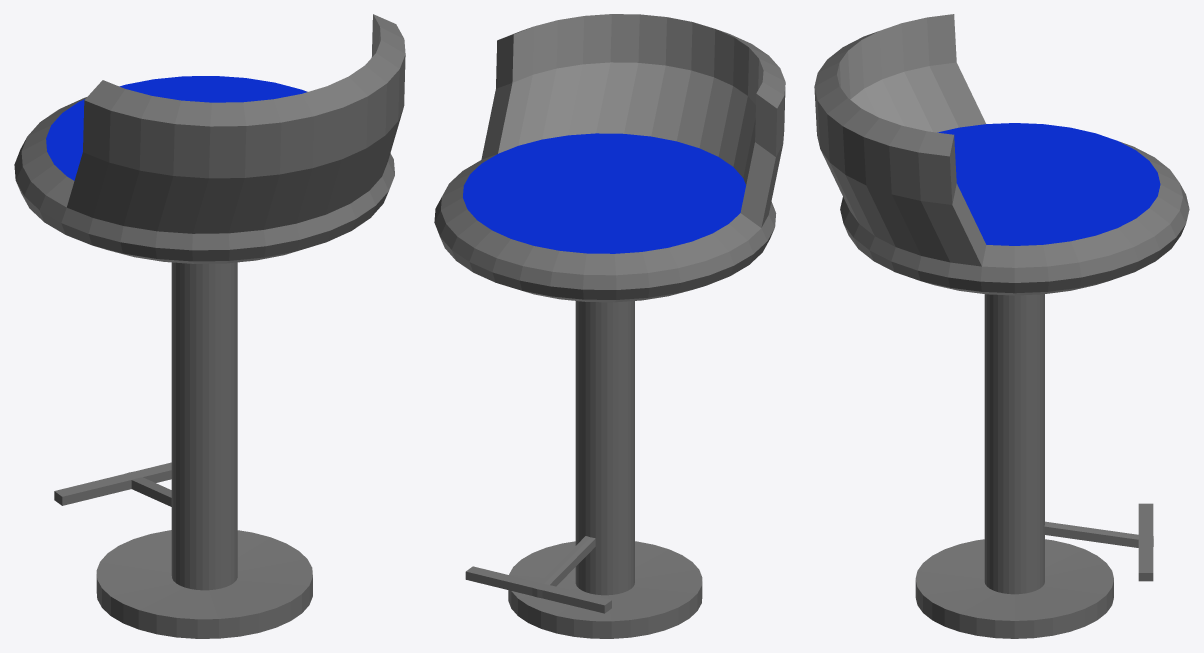
File: taburete_n3.fbx
The picture shows the model from 3 angles, left to right: view 1: azimuth 30°, elevation 25°; view 2: azimuth 150°, elevation 25°; view 3: azimuth 270°, elevation 25°; orthographic projection. The views are drawn at different scales.
Visible parts, largest first — view 1: tamburetes; view 2: tamburetes; view 3: tamburetes.
Part boxes in pixels (x1,y1,x2,y2): tamburetes: (14,14,405,638); tamburetes: (434,14,785,638); tamburetes: (814,14,1189,638).
Bounding box in the file's own units: 62.54 × 103 × 67.13.
